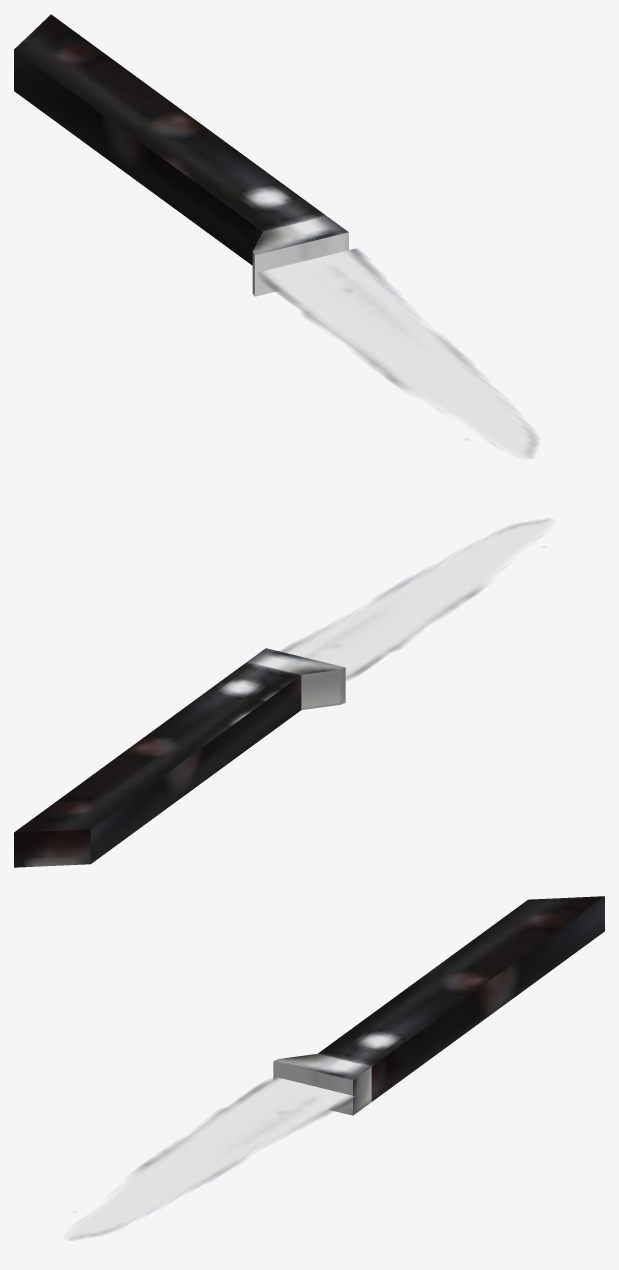
File: Knife_01.glb
3 views of the same model, one above another, from view 1: azimuth 30°, elevation 25°; view 2: azimuth 150°, elevation 25°; view 3: azimuth 330°, elevation 25° (orthographic). The views are drawn at different scales.
Visible parts, largest first — view 1: Knife_01; view 2: Knife_01; view 3: Knife_01.
Boxes of the visible parts, x1,y1,x2,y2 form: Knife_01: (14, 14, 538, 458); Knife_01: (14, 519, 552, 867); Knife_01: (66, 896, 604, 1239).
Size of the model in its own units: 0.0643 by 0.0155 by 0.376.
1 material, 1 textured.
